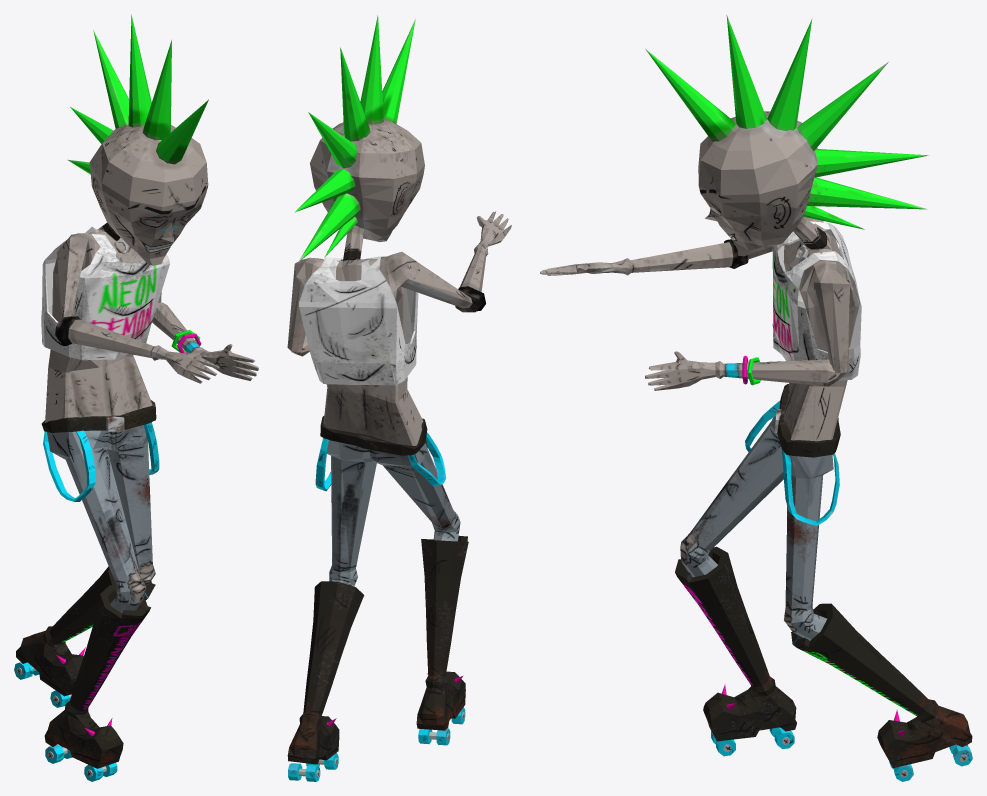
The model's file is punkAnimation_000015.obj.
The picture shows the model from 3 angles, left to right: view 1: azimuth 30°, elevation 25°; view 2: azimuth 150°, elevation 25°; view 3: azimuth 270°, elevation 25°; orthographic projection. The views are drawn at different scales.
Parts seen in each view (by area): view 1: Cube.004_Cube.003; view 2: Cube.004_Cube.003; view 3: Cube.004_Cube.003.
Boxes of the visible parts, bbox=[...] form: Cube.004_Cube.003: bbox=[14, 14, 258, 781]; Cube.004_Cube.003: bbox=[287, 15, 511, 781]; Cube.004_Cube.003: bbox=[540, 15, 972, 781].
Size of the model in its own units: 1.67 by 7.09 by 3.59.
